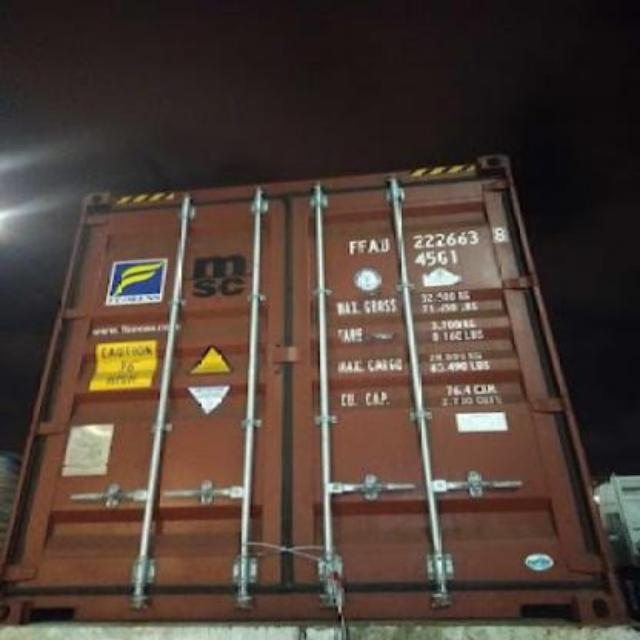2: (434, 233, 448, 249), (412, 234, 424, 250), (424, 233, 434, 249)
3: (466, 230, 482, 246)
6: (444, 230, 458, 246), (458, 231, 468, 247)
8: (492, 226, 508, 242)
A: (368, 238, 380, 254)
F: (346, 239, 358, 255), (358, 238, 368, 256)
U: (378, 238, 390, 252)
